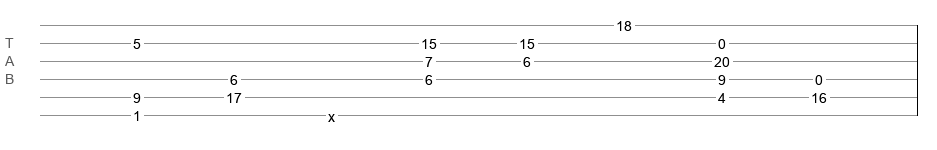0: (718, 36, 726, 46), (815, 72, 823, 82)
1: (133, 108, 141, 118)
15: (421, 36, 437, 46), (519, 36, 535, 46)
16: (811, 90, 827, 100)
17: (226, 90, 242, 100)
18: (616, 18, 632, 28)
20: (714, 54, 730, 64)
4: (718, 90, 726, 100)
5: (133, 36, 141, 46)
6: (230, 72, 238, 82), (425, 72, 433, 82), (523, 54, 531, 64)
7: (425, 54, 433, 64)
9: (133, 90, 141, 100), (718, 72, 726, 82)
x: (328, 109, 335, 117)
